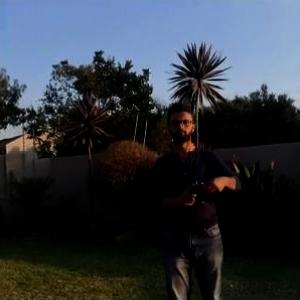follow: (149, 98, 246, 299)
